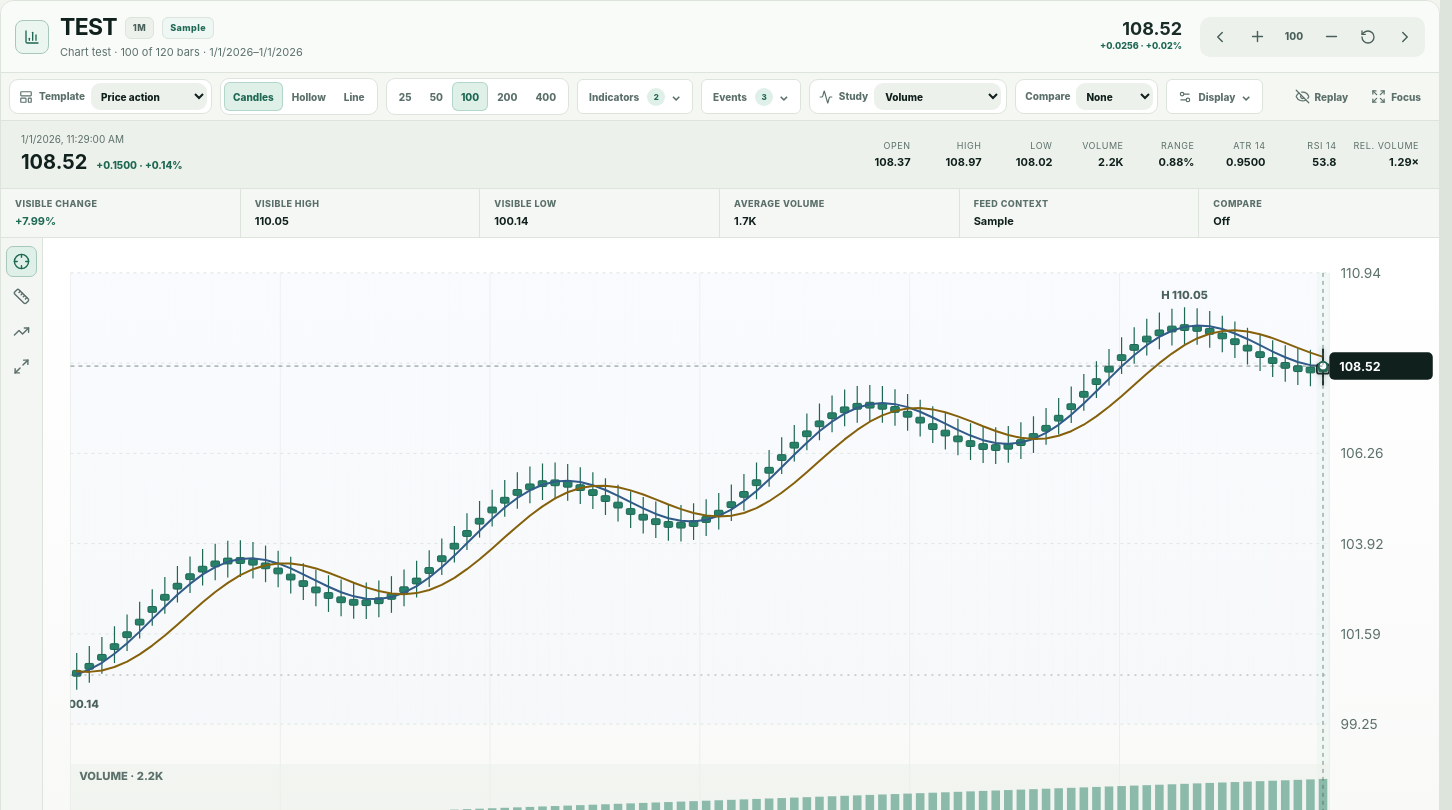
Test: MarketChart › hides future bars for replay and reveals one bar at a time
The width and height of the screenshot is (1452, 810).
What coordinates should you click on to do the following:
click the button "Replay"
I would click on:
 (1321, 97)
Its box is [1284,79,1358,114].
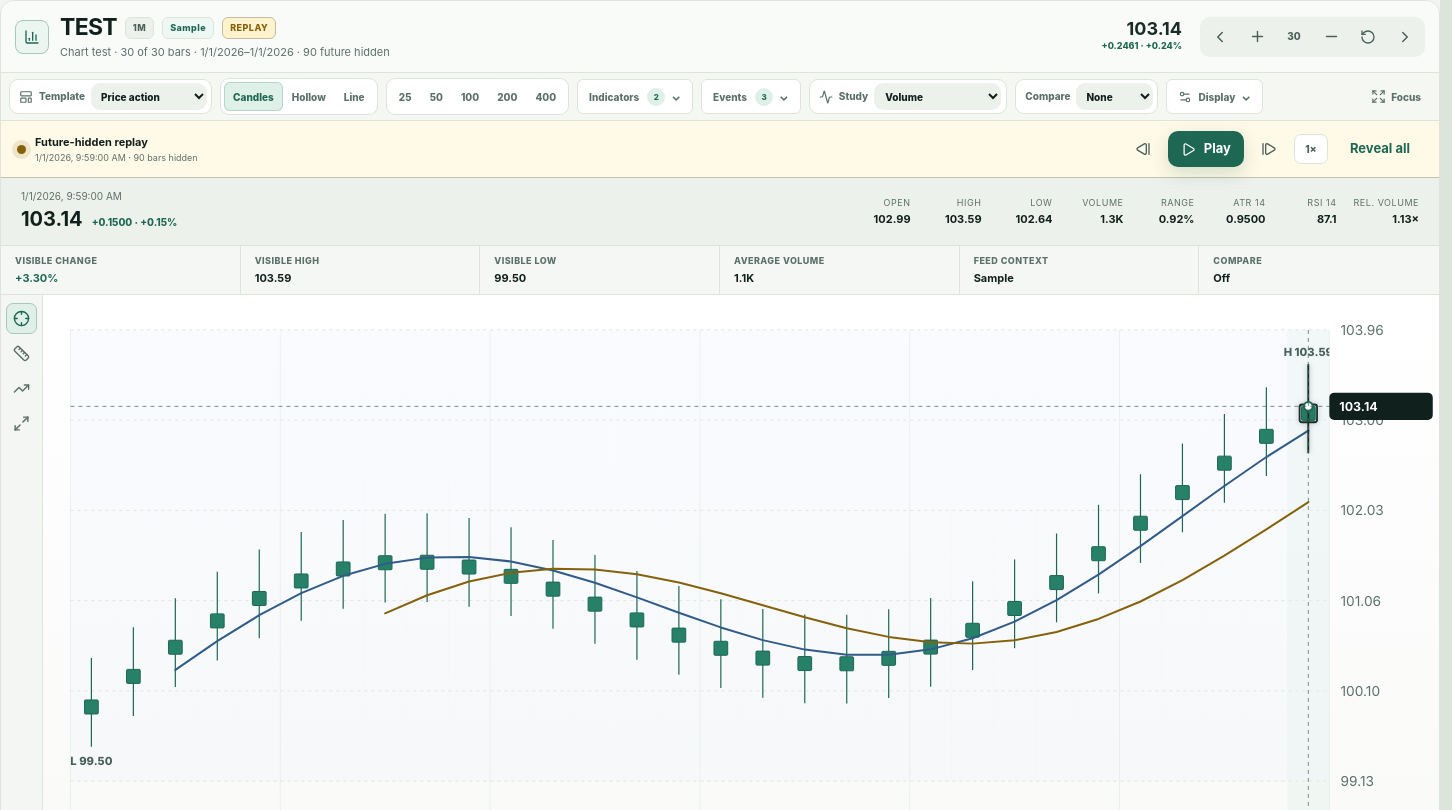
Now the text "Future-hidden replay" is shown, box [35,135,148,149]
Now the text "30 of 30 bars" is shown, box [60,44,390,60]
Now the text "1/1/2026, 9:59:00 AM · 90 bars hidden" is shown, box [35,151,198,165]
What coordinates should you click on to do the following:
click the button named "Reveal next bar"
I would click on:
 (1269, 149)
Its box is [1253,133,1285,165].
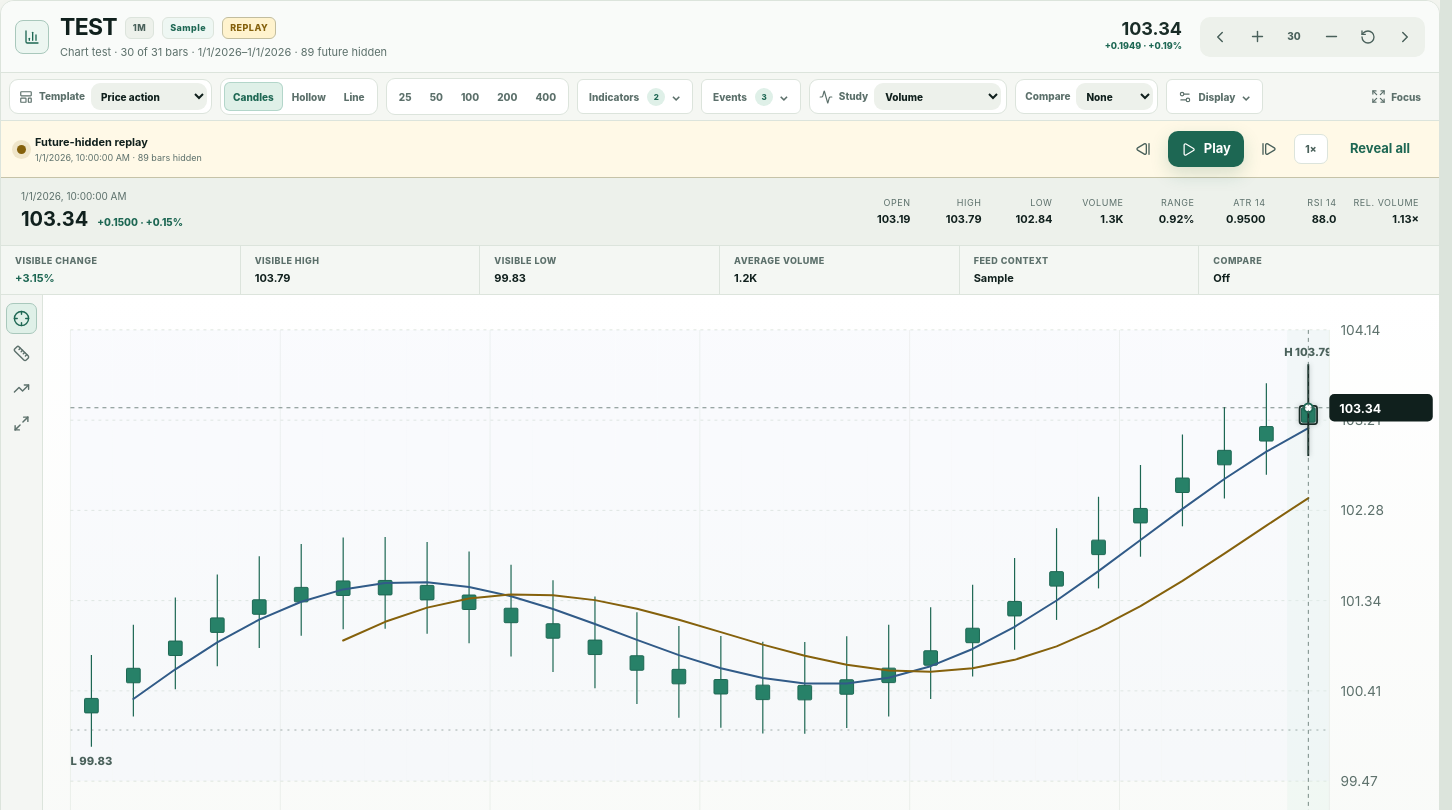
Now the text "30 of 31 bars" is shown, box [60,44,387,60]
Now the text "1/1/2026, 10:00:00 AM · 89 bars hidden" is shown, box [35,151,202,165]
What coordinates should you click on to do the following:
click the button "Reveal all"
I would click on:
 (1380, 149)
Its box is [1337,131,1423,167].
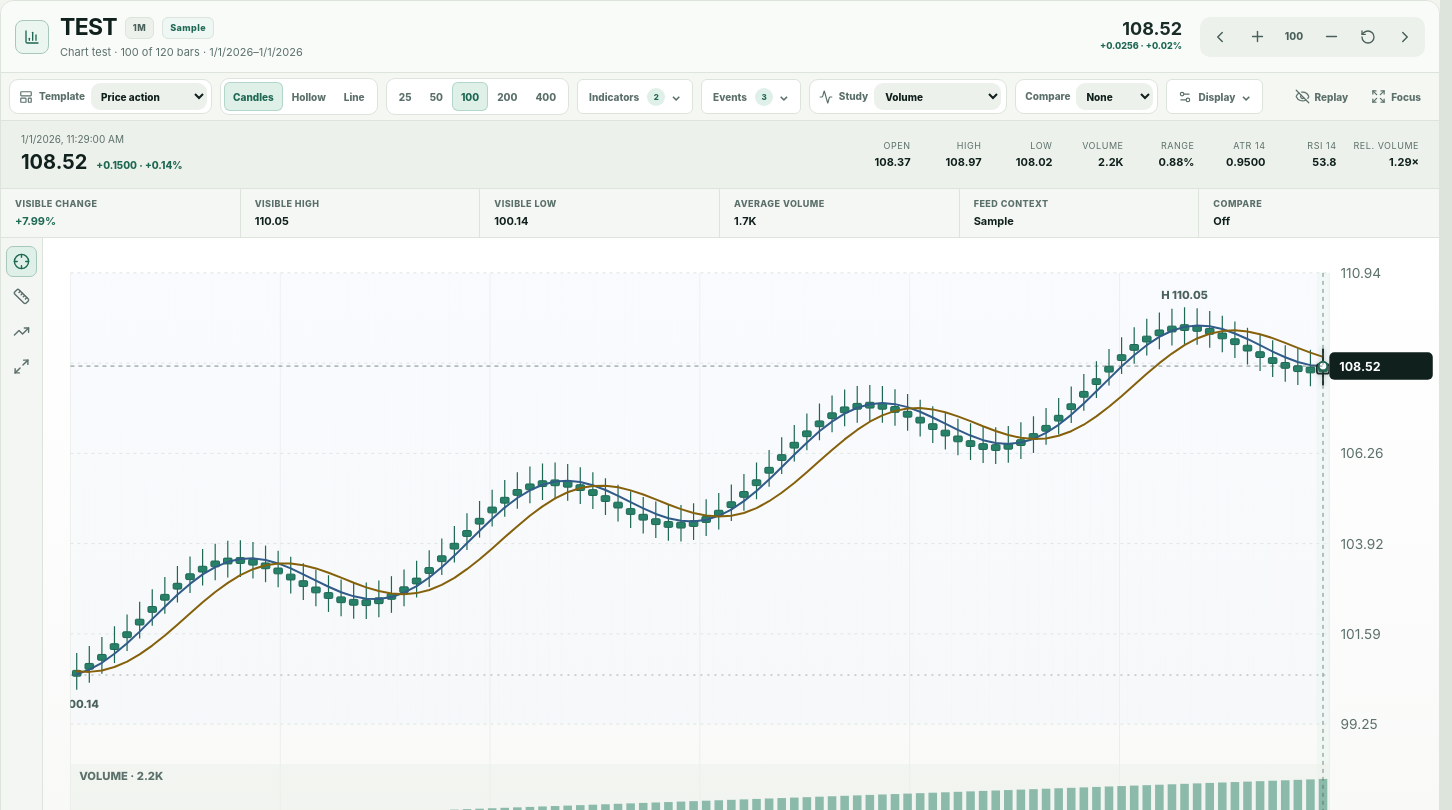
Now the text "Chart test · 100 of 120 bars · 1/1/2026–1/1/2026" is shown, box [60,44,303,60]
